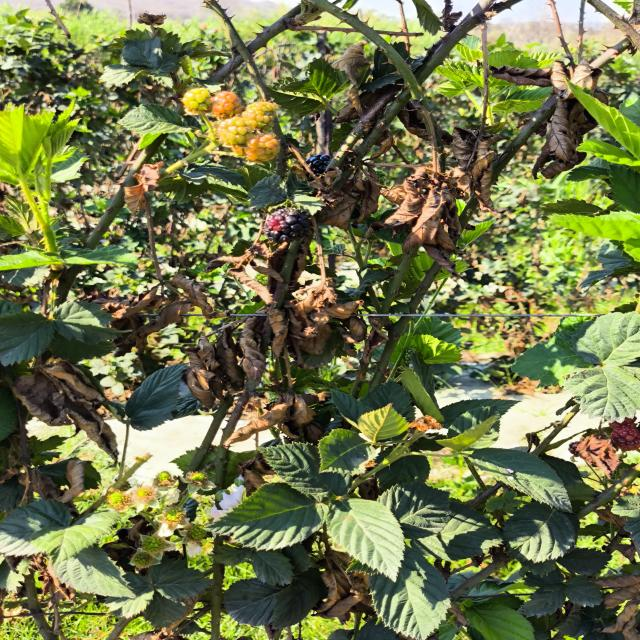marron: (265, 207, 310, 243)
naranja: (244, 133, 280, 163), (211, 91, 242, 120)
verde: (216, 117, 253, 146), (241, 100, 277, 129), (181, 87, 213, 116)
